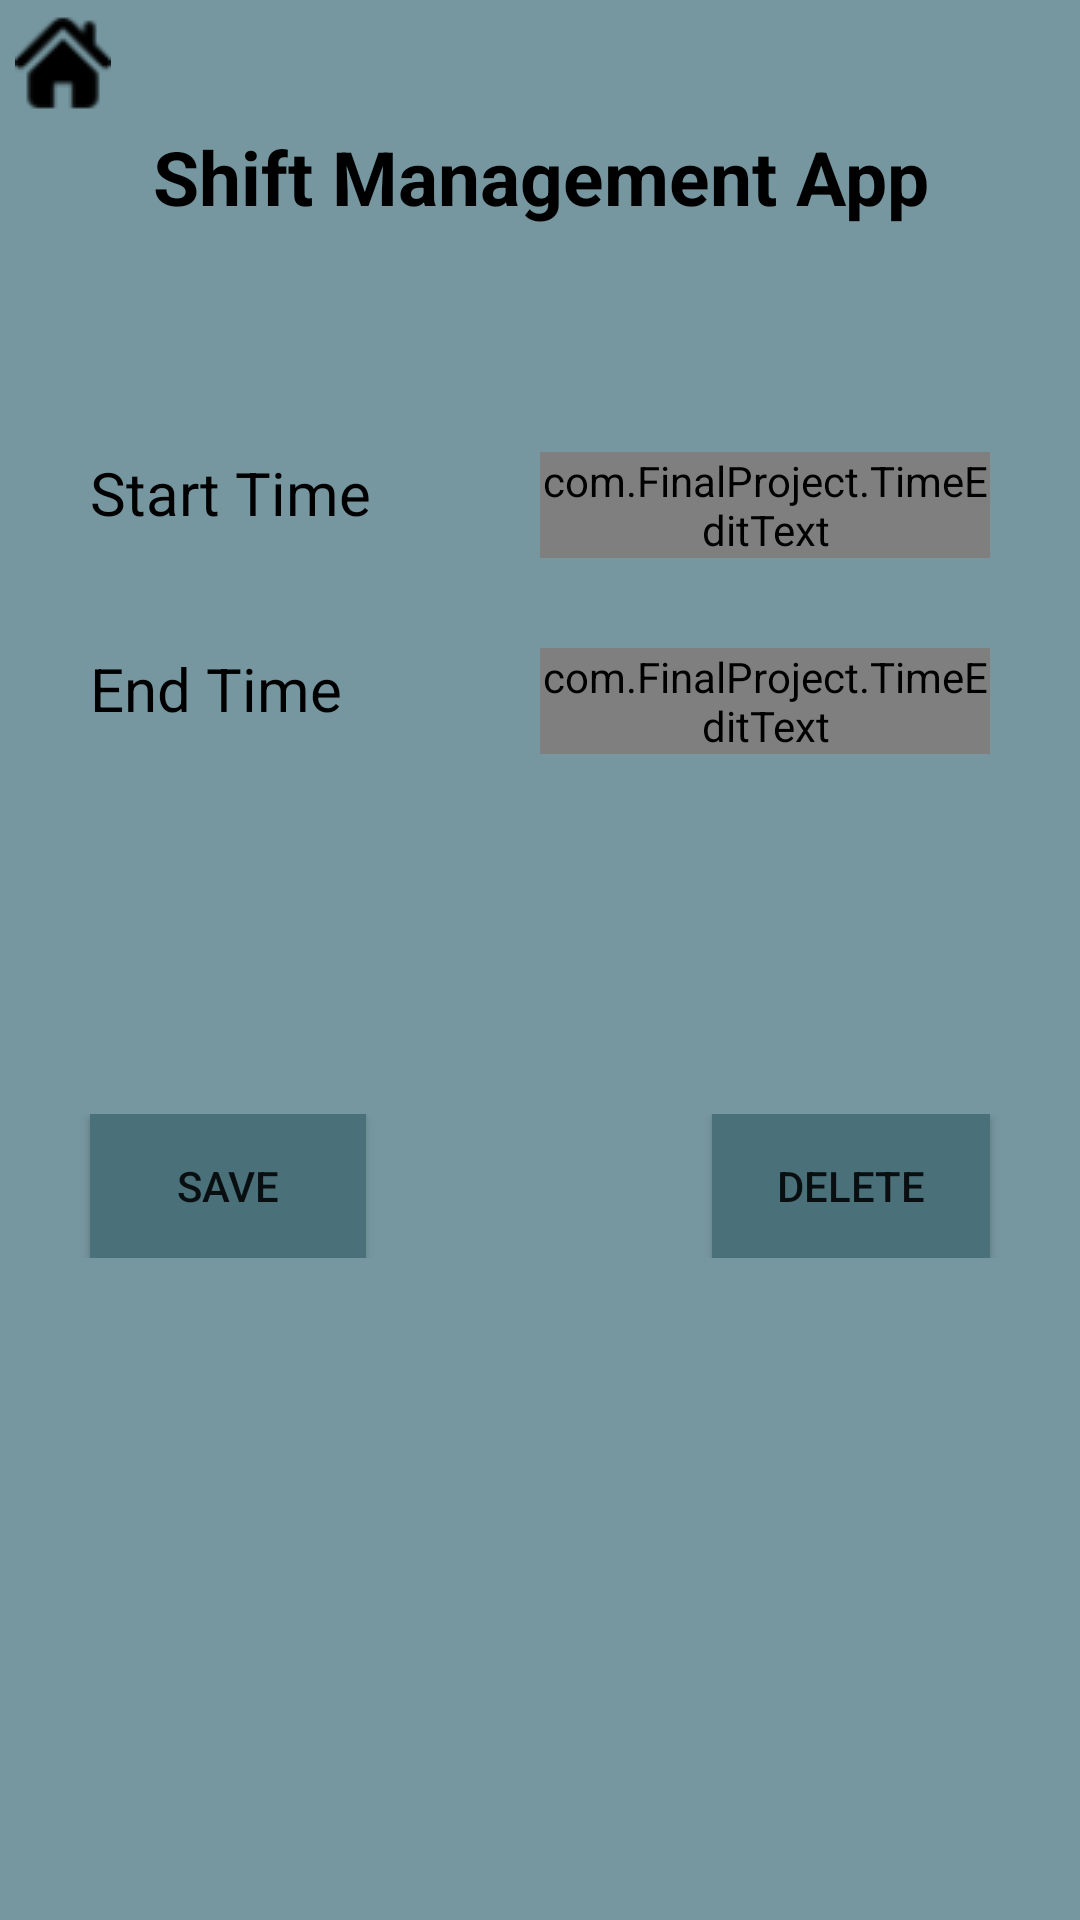

Point at icon controls on the screen. Image size 1080×1920, points as [x,y].
home: [63,63]
